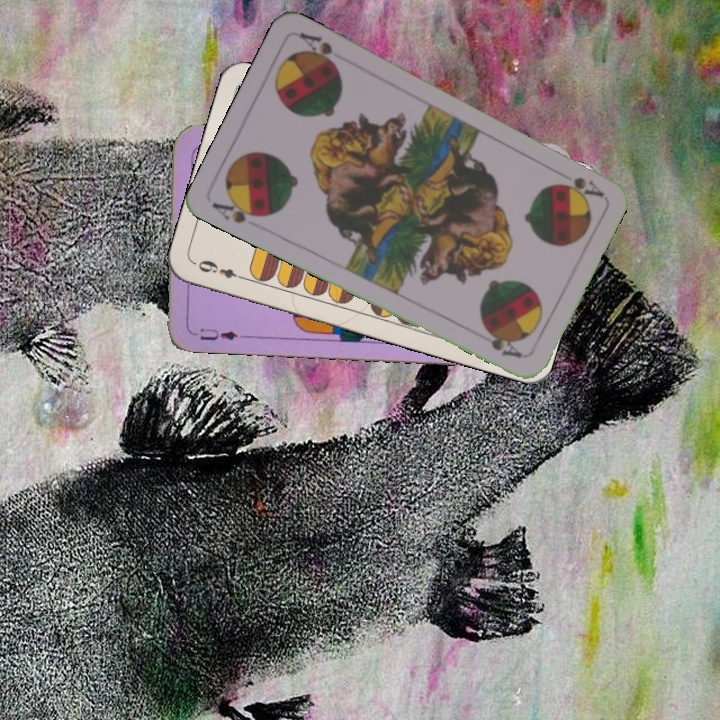E9: (191, 256, 249, 283)
EU: (188, 324, 241, 343)
SA: (208, 194, 269, 226), (569, 173, 606, 200)
